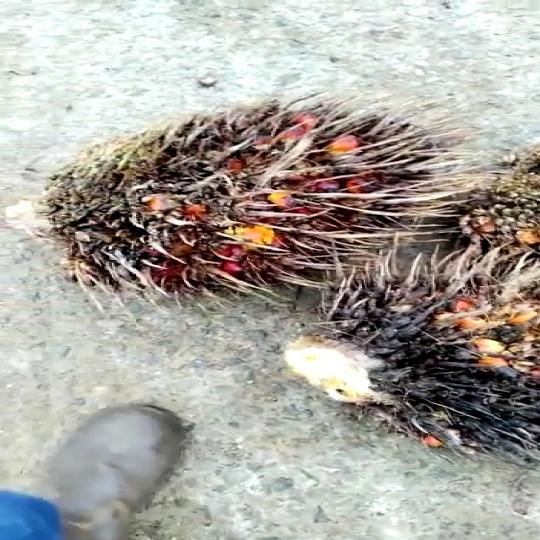terlalu masak: (40, 116, 448, 301)
